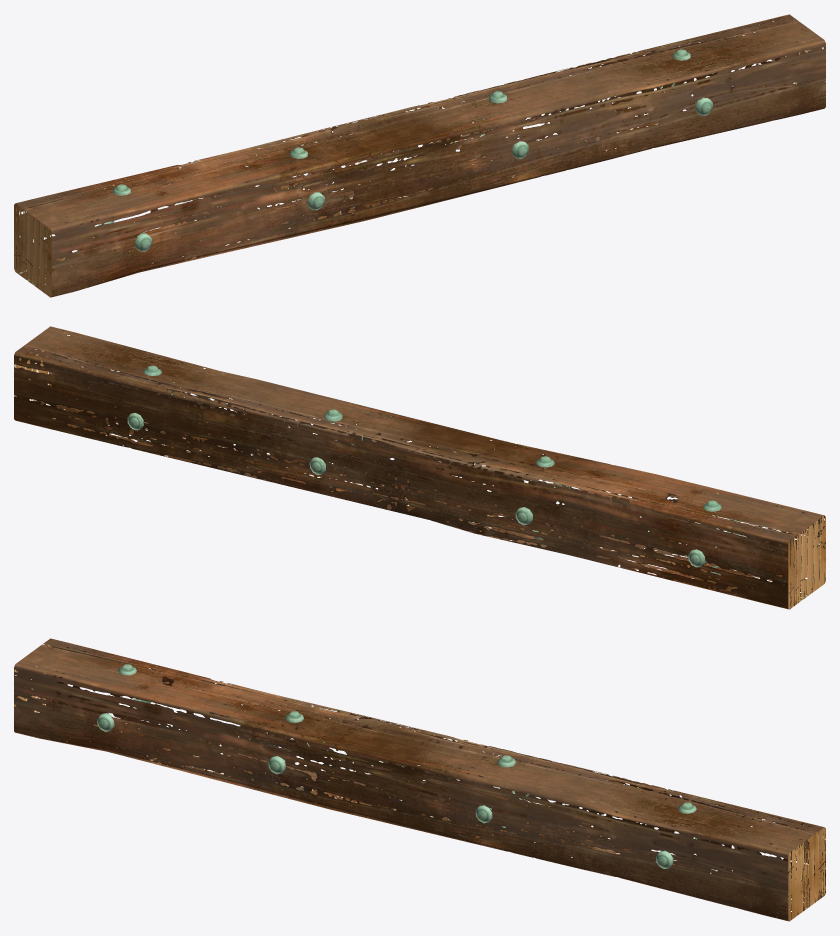
3 views of the same model, one above another, from view 1: azimuth 30°, elevation 25°; view 2: azimuth 150°, elevation 25°; view 3: azimuth 330°, elevation 25° (orthographic).
Visible parts, largest first — view 1: SM_BB_T4_Beam_Thin_Large_Horizontal_LOD0; view 2: SM_BB_T4_Beam_Thin_Large_Horizontal_LOD0; view 3: SM_BB_T4_Beam_Thin_Large_Horizontal_LOD0.
Boxes of the visible parts, x1,y1,x2,y2 form: SM_BB_T4_Beam_Thin_Large_Horizontal_LOD0: (14,14,825,297); SM_BB_T4_Beam_Thin_Large_Horizontal_LOD0: (14,326,825,609); SM_BB_T4_Beam_Thin_Large_Horizontal_LOD0: (14,638,825,921).
Bounding box in the file's own units: 3 × 0.3031 × 0.3031.
2 materials, 2 textured.
